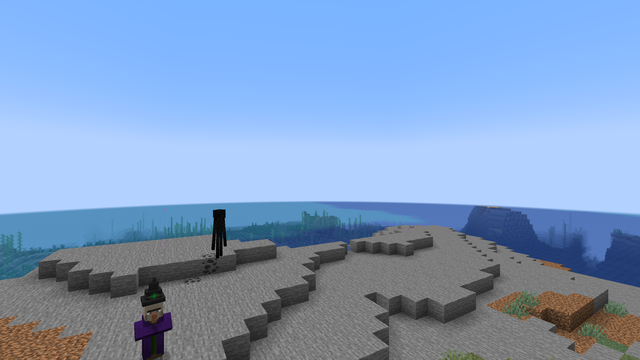endermens: (213, 207, 225, 257)
sorcieres: (140, 292, 164, 359)
